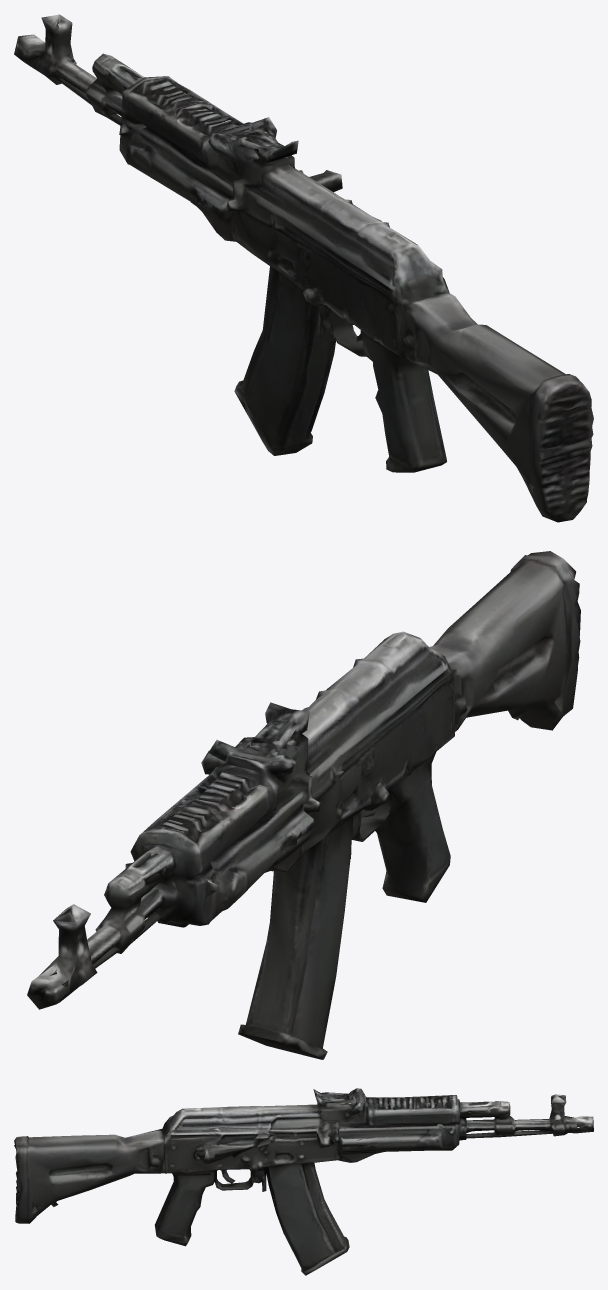
3 renders of one model, top to bottom at view 1: azimuth 30°, elevation 25°; view 2: azimuth 150°, elevation 25°; view 3: azimuth 270°, elevation 25°, orthographic. The views are drawn at different scales.
Parts seen in each view (by area): view 1: tripo_node_ea94c244-dfc6-4f0b-aeef-92cbad907b12; view 2: tripo_node_ea94c244-dfc6-4f0b-aeef-92cbad907b12; view 3: tripo_node_ea94c244-dfc6-4f0b-aeef-92cbad907b12.
Part boxes in pixels (x1=…): tripo_node_ea94c244-dfc6-4f0b-aeef-92cbad907b12: x1=14, y1=14, x2=593, y2=522; tripo_node_ea94c244-dfc6-4f0b-aeef-92cbad907b12: x1=27, y1=551, x2=580, y2=1059; tripo_node_ea94c244-dfc6-4f0b-aeef-92cbad907b12: x1=14, y1=1088, x2=593, y2=1275.
Size of the model in its own units: 0.1377 by 0.3393 by 1.
1 material, 1 textured.
